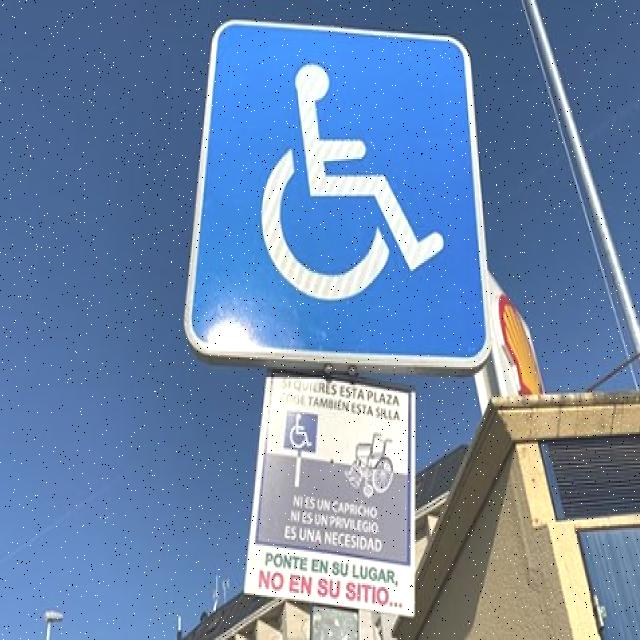symbol_of_access: (182, 16, 492, 370)
